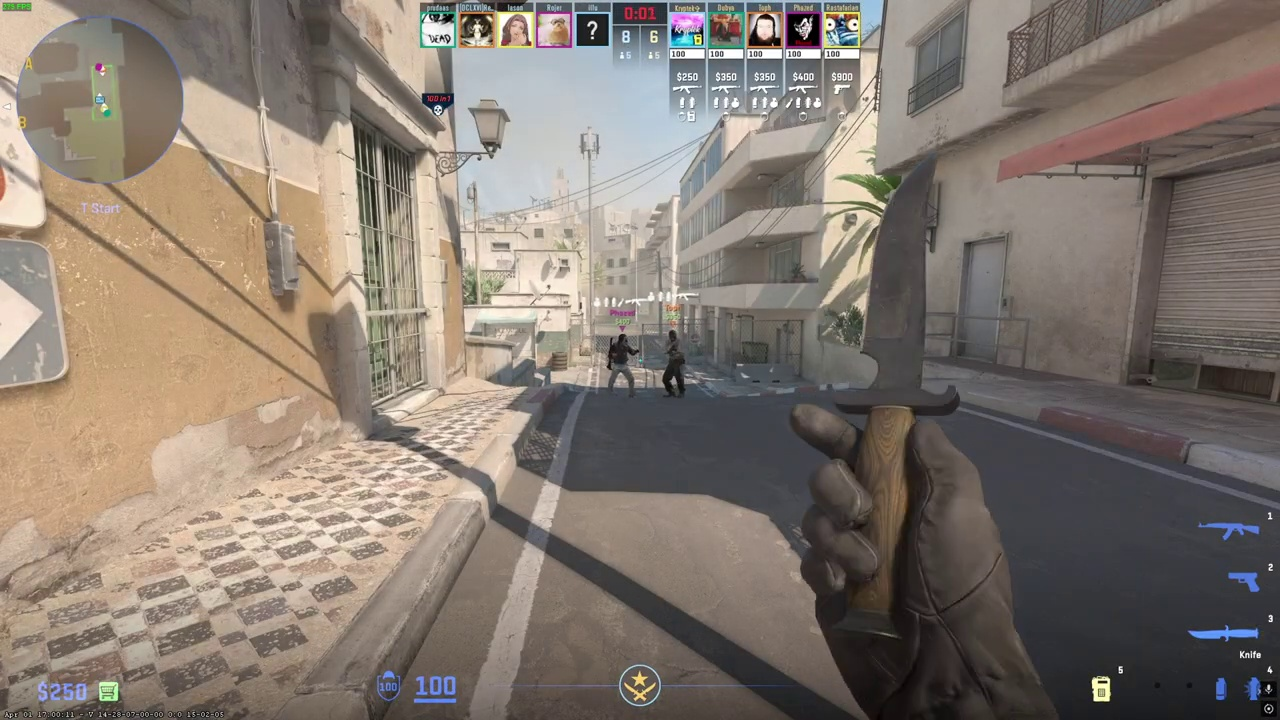Terrorist: (608, 334, 639, 397), (662, 330, 686, 398)
